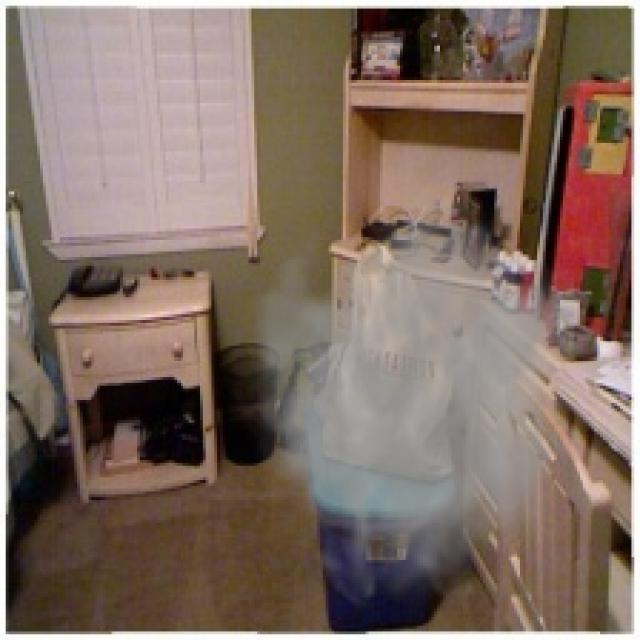Smoke: (222, 188, 574, 614)
